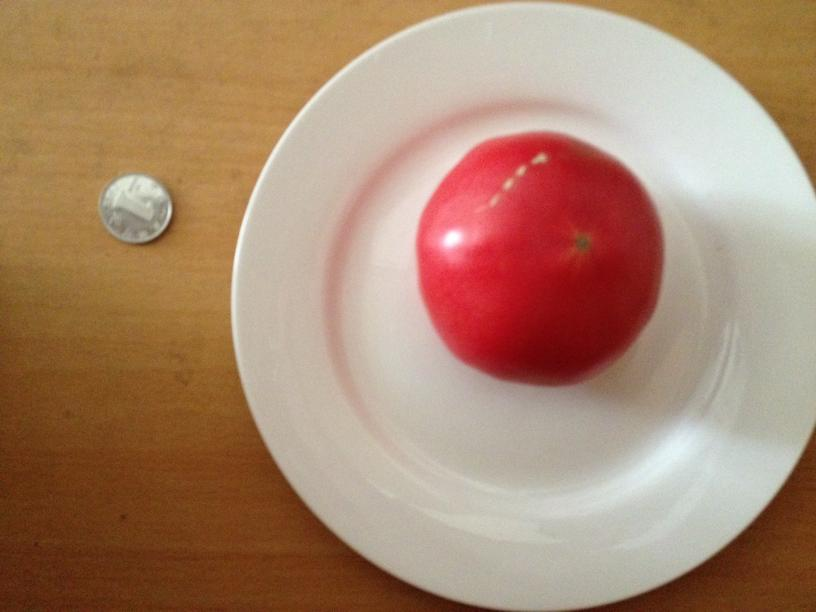coin: (97, 169, 173, 245)
tomato: (407, 124, 665, 387)
